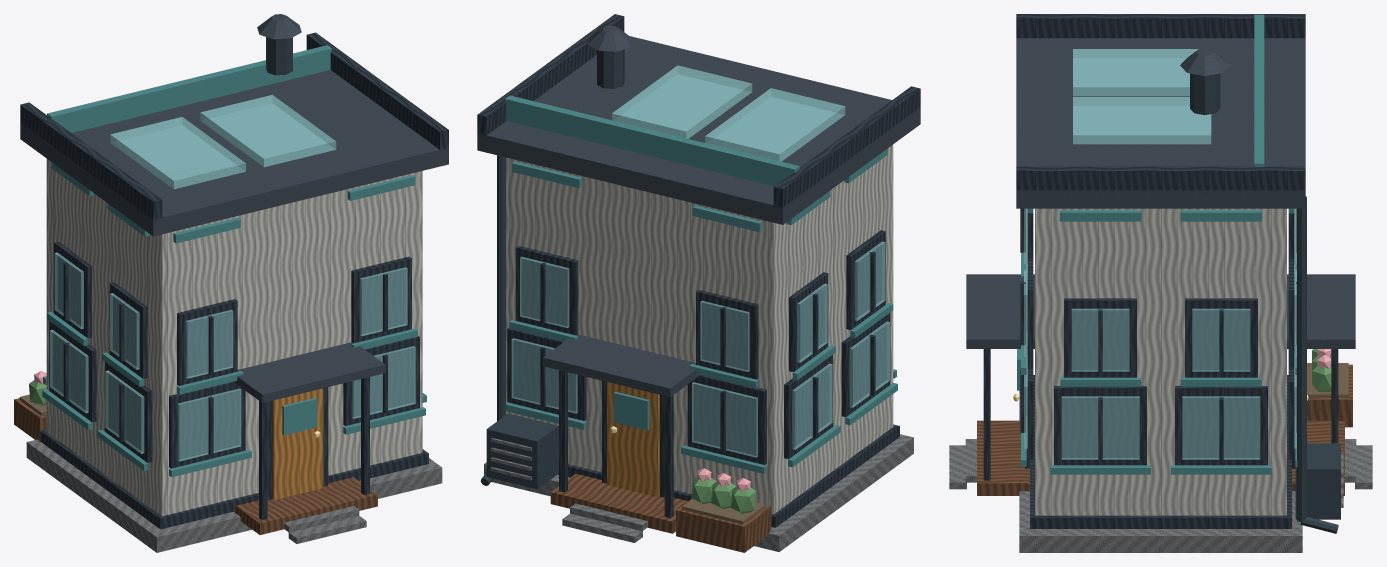
The model's file is house_modern_lv3.glb.
3 renders of one model, left to right at view 1: azimuth 30°, elevation 25°; view 2: azimuth 150°, elevation 25°; view 3: azimuth 270°, elevation 25°, orthographic. The views are drawn at different scales.
Parts seen in each view (by area): view 1: walls, flat_roof, foundation, roof_terrace, solar_panel.001, solar_panel, front_porch_canopy, front_window_frame, front_door, floor_trim, front_window_frame.002, front_window_frame.003 (+33 smaller); view 2: walls, flat_roof, roof_terrace, solar_panel, solar_panel.001, back_porch_canopy, back_window_frame, foundation, back_door, back_window_frame.003, back_window_frame.002, parapet (+37 smaller); view 3: walls, flat_roof, foundation, parapet.001, right_window_frame, right_window_frame.001, parapet, solar_panel.001, solar_panel, right_window_frame.002, right_window_frame.003, right_window_glass (+31 smaller).
Boxes of the visible parts, <box> form: walls: <box>46,159,422,516</box>; flat_roof: <box>20,70,448,236</box>; foundation: <box>26,439,442,552</box>; roof_terrace: <box>47,45,331,132</box>; solar_panel.001: <box>200,95,336,167</box>; solar_panel: <box>110,117,245,189</box>; front_porch_canopy: <box>233,342,385,402</box>; front_window_frame: <box>169,381,245,468</box>; front_door: <box>272,388,323,499</box>; floor_trim: <box>40,429,428,529</box>; front_window_frame.002: <box>177,299,237,385</box>; front_window_frame.003: <box>351,256,411,343</box>; walls: <box>506,144,893,514</box>; flat_roof: <box>477,36,920,224</box>; roof_terrace: <box>505,95,799,186</box>; solar_panel: <box>705,88,845,161</box>; solar_panel.001: <box>612,65,752,138</box>; back_porch_canopy: <box>543,334,700,396</box>; back_window_frame: <box>687,375,766,464</box>; foundation: <box>484,434,913,551</box>; back_door: <box>607,382,659,497</box>; back_window_frame.003: <box>515,245,578,335</box>; back_window_frame.002: <box>696,289,758,379</box>; parapet: <box>773,86,920,209</box>; walls: <box>1035,208,1286,515</box>; flat_roof: <box>1016,38,1305,208</box>; foundation: <box>1019,390,1302,552</box>; parapet.001: <box>1016,166,1305,193</box>; right_window_frame: <box>1054,386,1146,465</box>; right_window_frame.001: <box>1175,386,1267,465</box>; parapet: <box>1016,14,1305,38</box>; solar_panel.001: <box>1073,97,1211,144</box>; solar_panel: <box>1073,49,1198,96</box>; right_window_frame.002: <box>1064,298,1136,377</box>; right_window_frame.003: <box>1185,298,1257,377</box>; right_window_glass: <box>1061,396,1139,459</box>.
Bounding box in the file's own units: 2.95 × 4.03 × 3.36.
13 materials, 7 textured.
